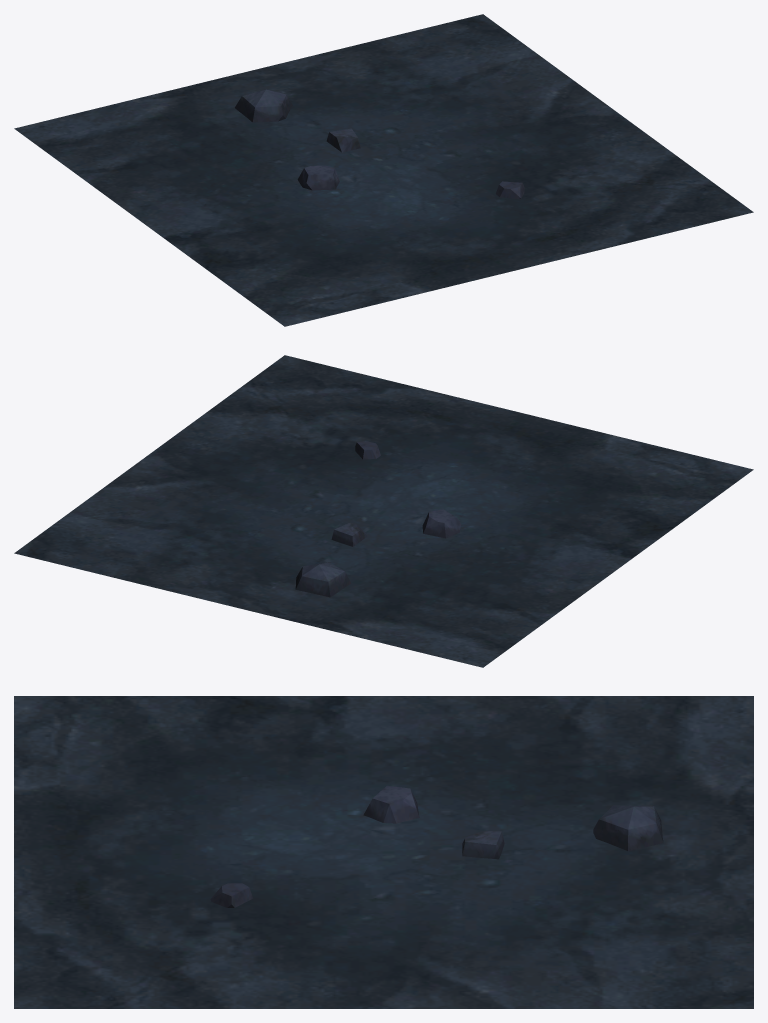
Rendered from mine_rubble_07.fbx.
3 views of the same model, one above another, from view 1: azimuth 30°, elevation 25°; view 2: azimuth 150°, elevation 25°; view 3: azimuth 270°, elevation 25° (orthographic). The views are drawn at different scales.
Visible parts, largest first — view 1: mine_rubble_07-0; view 2: mine_rubble_07-0; view 3: mine_rubble_07-0.
Part boxes in pixels (<box>): mine_rubble_07-0: <box>14,14,753,326</box>; mine_rubble_07-0: <box>14,355,753,667</box>; mine_rubble_07-0: <box>14,696,753,1008</box>.
Size of the model in its own units: 4 by 0.217 by 4.
